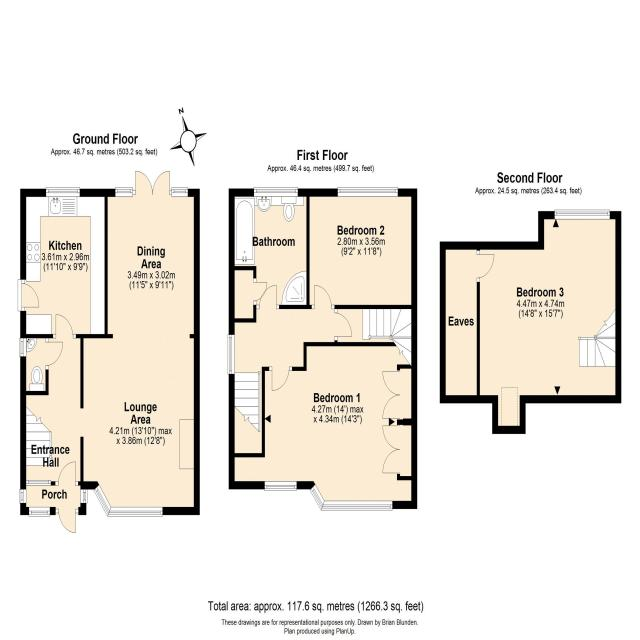DOOR: (476, 252, 497, 281), (20, 282, 42, 309), (44, 340, 65, 368), (57, 460, 78, 488), (270, 365, 291, 393), (55, 311, 75, 340), (257, 283, 278, 310), (57, 507, 77, 535), (333, 311, 353, 339), (314, 284, 333, 310), (252, 280, 269, 304)
DOUBLE DOOR: (134, 170, 171, 197)
ROOM: (80, 169, 201, 518), (476, 208, 623, 436), (228, 341, 418, 512), (306, 186, 418, 310), (19, 187, 108, 339)
WINDOW: (320, 498, 394, 512), (106, 503, 163, 518), (92, 483, 113, 519), (553, 208, 611, 221), (337, 186, 399, 198), (253, 186, 299, 198), (308, 483, 326, 513), (45, 186, 81, 198), (263, 480, 298, 492), (227, 333, 236, 376), (28, 506, 51, 517), (114, 186, 134, 198), (171, 186, 189, 198), (25, 479, 52, 487), (18, 337, 27, 358), (18, 487, 27, 504), (80, 488, 88, 504)
